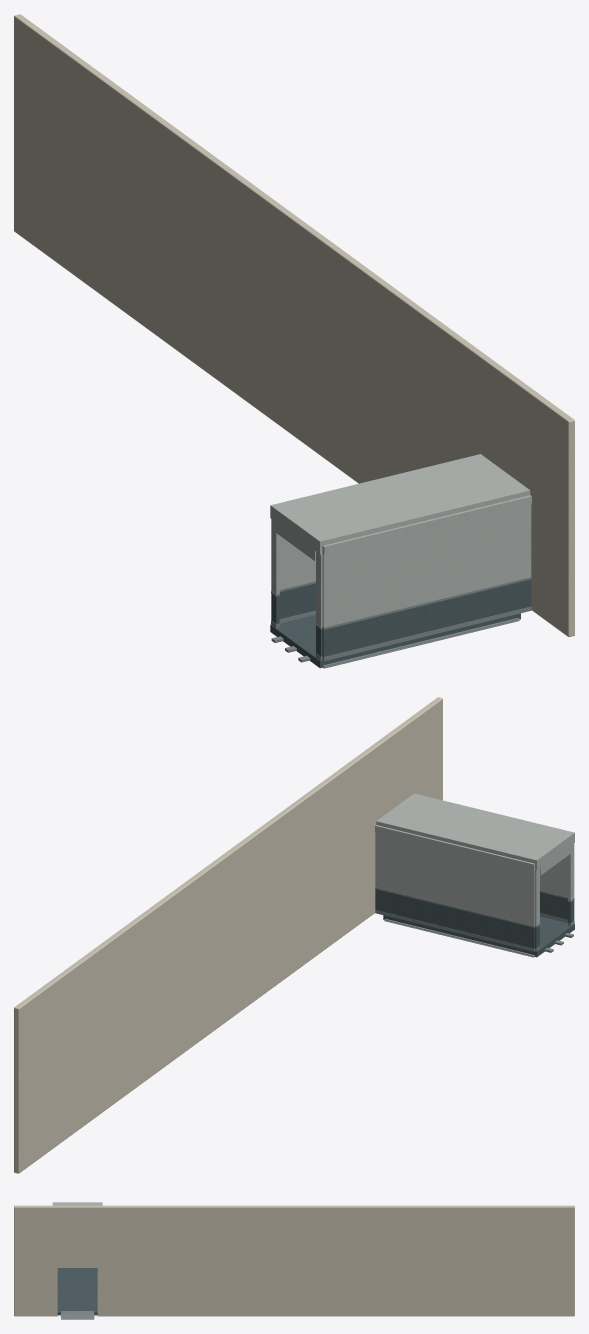
File: CINEMA4_SERVICE_RECEIVER_r001.glb
The picture shows the model from 3 angles, top to bottom: view 1: azimuth 30°, elevation 25°; view 2: azimuth 150°, elevation 25°; view 3: azimuth 270°, elevation 25°; orthographic projection. The views are drawn at different scales.
Parts seen in each view (by area): view 1: C4R_SUCCESSOR_E_outer_west1, C4R_BATCH_002, C4R_BATCH_000, C4R_BATCH_003; view 2: C4R_SUCCESSOR_E_outer_west1, C4R_BATCH_002, C4R_BATCH_000, C4R_BATCH_003; view 3: C4R_SUCCESSOR_E_outer_west1, C4R_BATCH_000, C4R_BATCH_003, C4R_BATCH_002.
Part boxes in pixels (x1,y1,x2,y2): C4R_SUCCESSOR_E_outer_west1: (14, 14, 574, 636); C4R_BATCH_002: (270, 454, 531, 627); C4R_BATCH_000: (270, 579, 531, 668); C4R_BATCH_003: (271, 577, 531, 668); C4R_SUCCESSOR_E_outer_west1: (14, 697, 442, 1173); C4R_BATCH_002: (375, 793, 574, 925); C4R_BATCH_000: (375, 889, 574, 957); C4R_BATCH_003: (375, 887, 574, 957); C4R_SUCCESSOR_E_outer_west1: (14, 1205, 574, 1316); C4R_BATCH_000: (57, 1268, 97, 1314); C4R_BATCH_003: (61, 1311, 94, 1319); C4R_BATCH_002: (52, 1202, 102, 1205).
Bounding box in the file's own units: 8.3 × 7.44 × 33.5.
7 materials, 6 textured.
